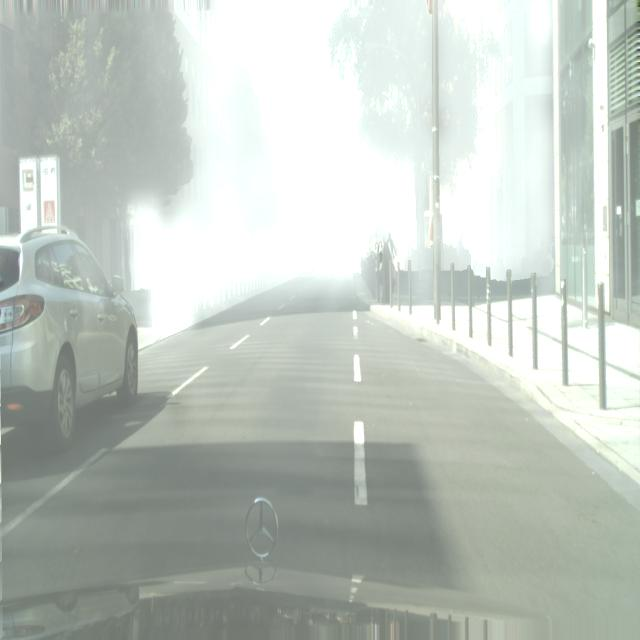person: (380, 220, 398, 305)
truck: (0, 225, 139, 450), (284, 246, 301, 273), (329, 248, 341, 264)
